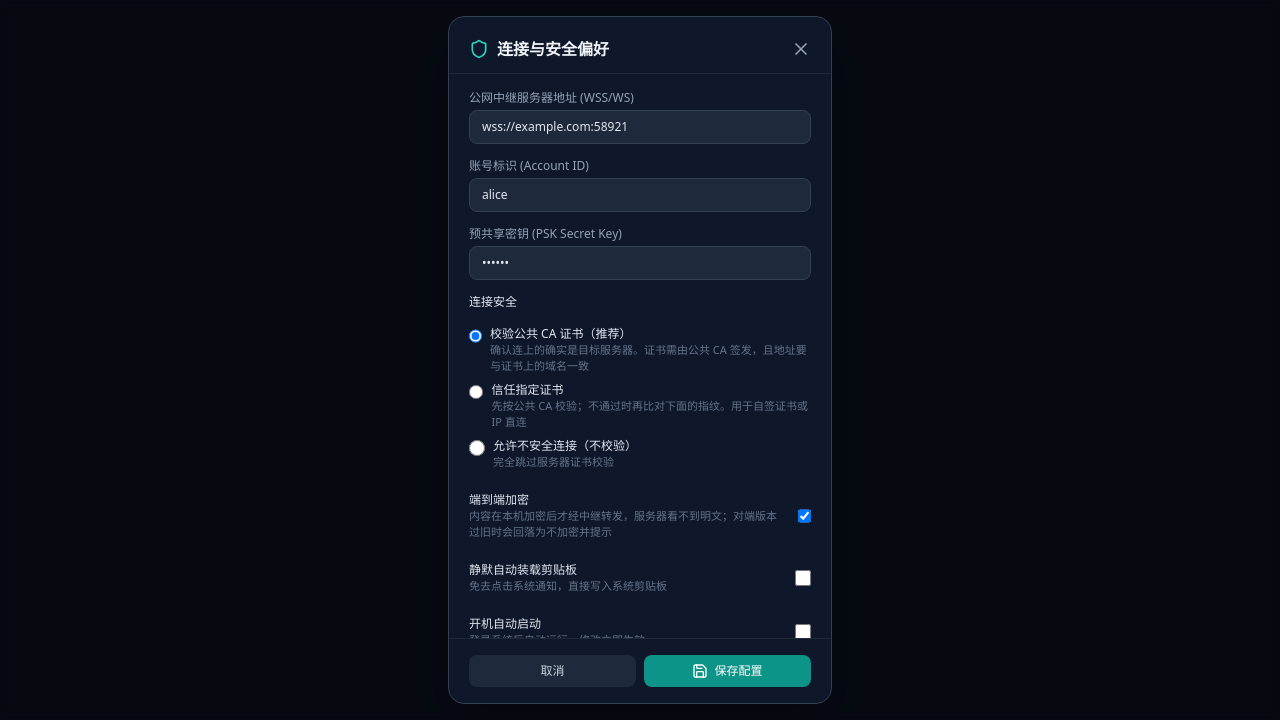
Test: 账号标识校验 › 空账号被拦下且不提交
Clear the field labelled "账号标识 (Account ID)" at (640, 195), box [469,178,811,212]
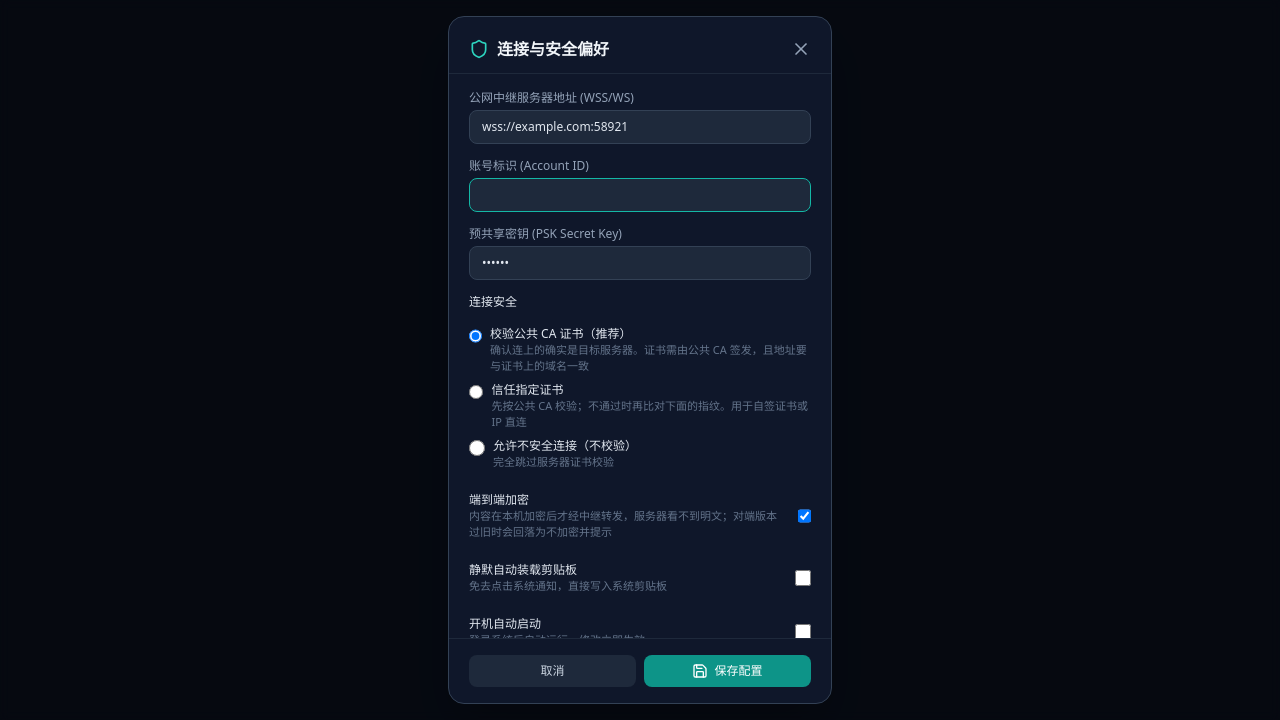
Click the button "保存配置" at (728, 671), box [644,655,811,687]
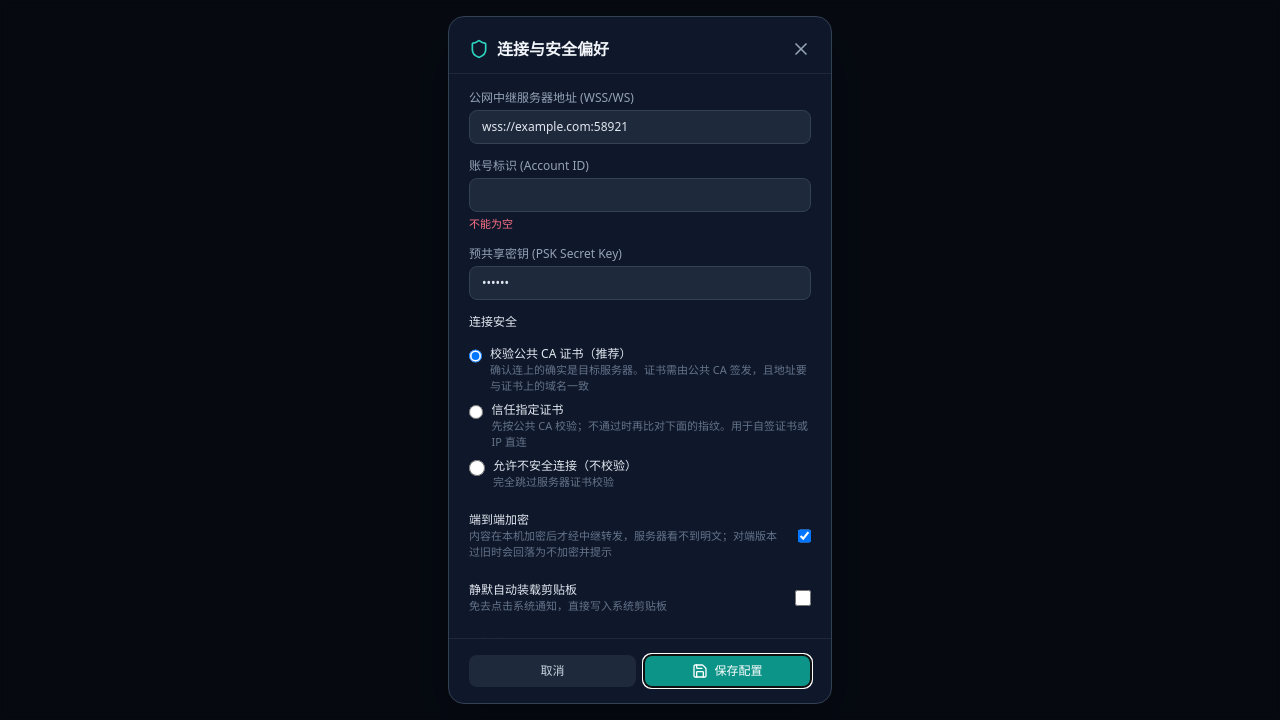
expect the text "不能为空" is shown: met, box [469,216,513,232]
